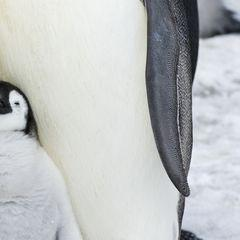Emperor Penguin: (0, 0, 211, 238), (0, 0, 5, 240)
